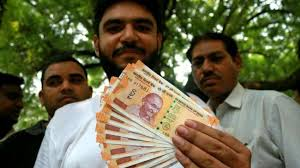twoHundred: (116, 76, 189, 127)
